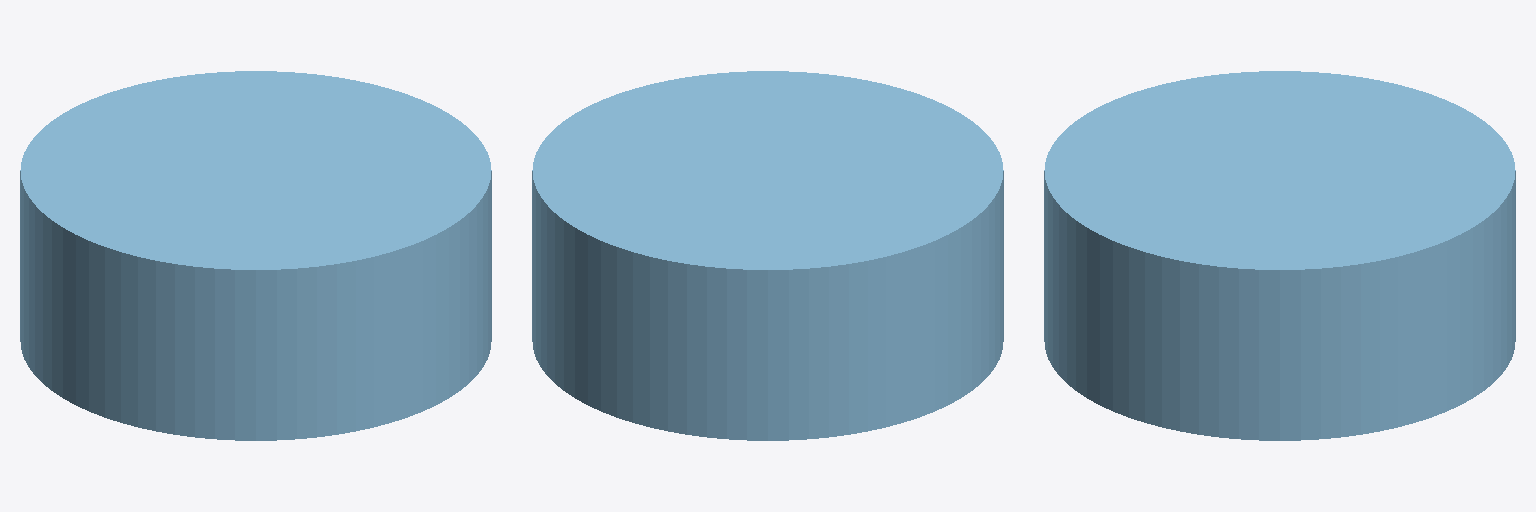
URDF robot description (arm_6dof):
<?xml version="1.0" ?>
<!-- Generated using onshape-to-robot -->
<!-- Onshape document_id: a878df516f3822672e940658 / workspace_id: 6a5fc0af63b06b3d84cdbb9a -->
<robot name="arm_6dof">
  <!-- Link base_link -->
  <link name="base_link">
    <inertial>
      <origin xyz="-0 0 0.02" rpy="0 0 0"/>
      <mass value="0.330496"/>
      <inertia ixx="0.000250626" ixy="0" ixz="0" iyy="0.000250626" iyz="0" izz="0.000413119"/>
    </inertial>
    <!-- Part base_link -->
    <visual>
      <origin xyz="0 0 0" rpy="0 -0 0"/>
      <geometry>
        <mesh filename="package://arm_description/assets/base_link.stl"/>
      </geometry>
      <material name="base_link_material">
        <color rgba="0.615686 0.811765 0.929412 1"/>
      </material>
    </visual>
    <collision>
      <origin xyz="0 0 0" rpy="0 -0 0"/>
      <geometry>
        <mesh filename="package://arm_description/assets/base_link.stl"/>
      </geometry>
    </collision>
  </link>
</robot>

--- What the picture shows (computed from the rendered views, not written in the file) ---
Views: 3 orthographic renders of the robot side by side, from view 1: azimuth 30°, elevation 25°; view 2: azimuth 150°, elevation 25°; view 3: azimuth 270°, elevation 25°.
Model arm_6dof with 1 links and 0 joints (none), rooted at base_link, posed all joints at 0.
Visible links, largest first — view 1: base_link; view 2: base_link; view 3: base_link.
Boxes of the visible links, bbox=[...] form: base_link: bbox=[20, 71, 491, 440]; base_link: bbox=[532, 71, 1003, 440]; base_link: bbox=[1044, 71, 1515, 440].
Bounding box of the posed robot: 0.1 × 0.1 × 0.04 m (x, y, z).
1 mesh visuals loaded from 1 distinct referenced files (1 binary STL).
